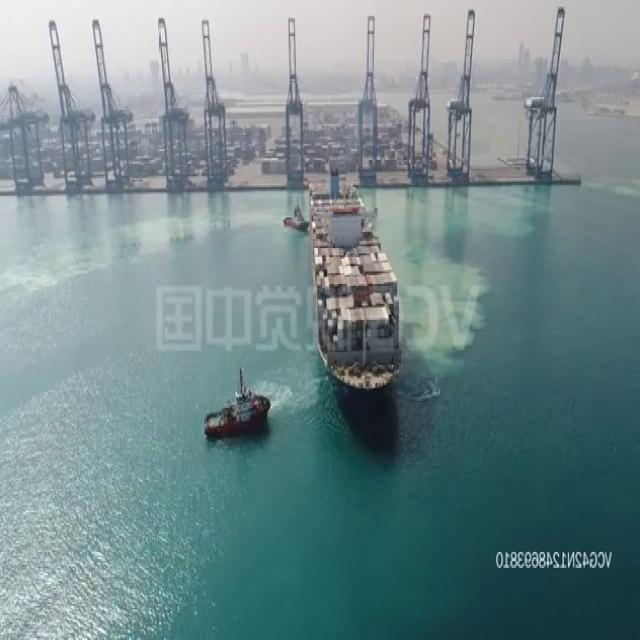cargoship: (307, 158, 409, 395)
houseboat: (199, 368, 271, 431), (286, 201, 310, 230)
